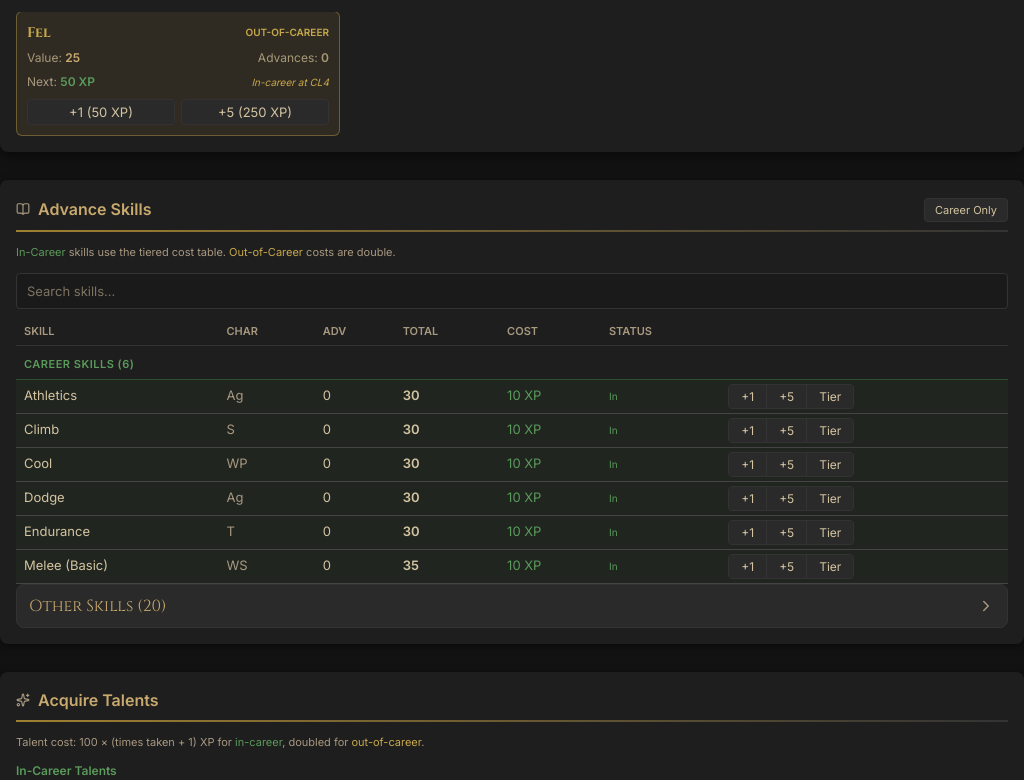
Test: AdvancementPage tooltip behavior › clicking a talent while a skill tooltip is open replaces it (Req 3.3)
// Open skill tooltip
Click the button "Athletics" at (51, 396), box [24, 386, 77, 406]
(page scrolled)
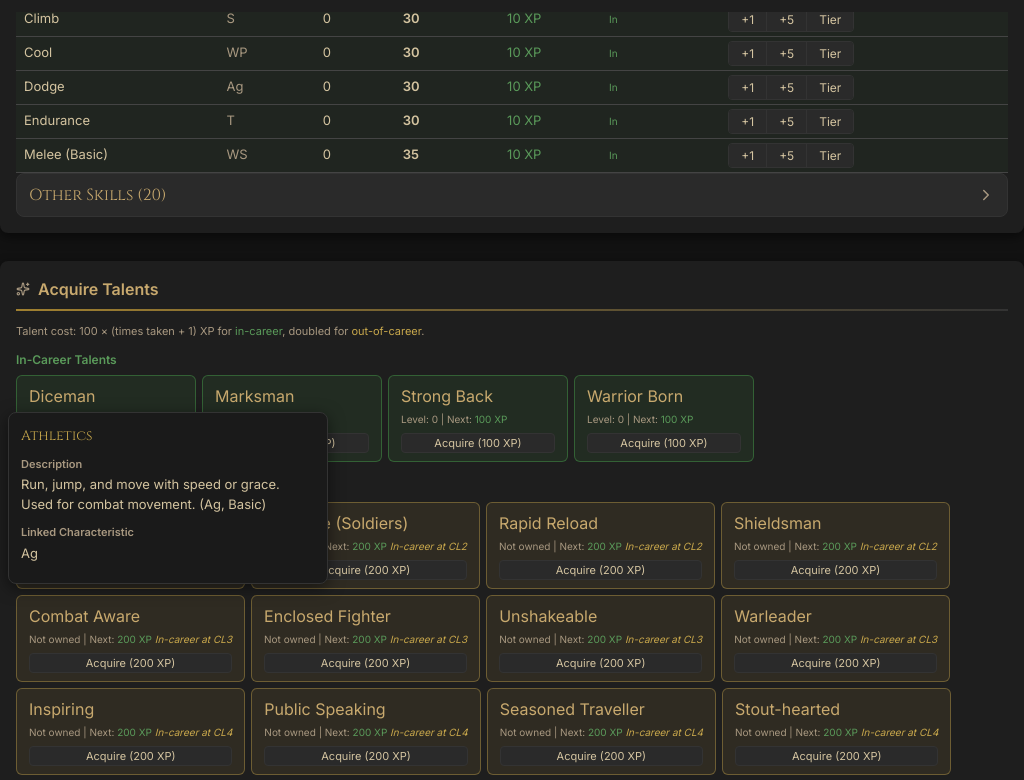
Result: the tooltip shows "Athletics" at [21, 426, 92, 445]
// Click a talent — should replace the skill tooltip
Click the button "Warrior Born" at (664, 396), box [587, 384, 741, 408]
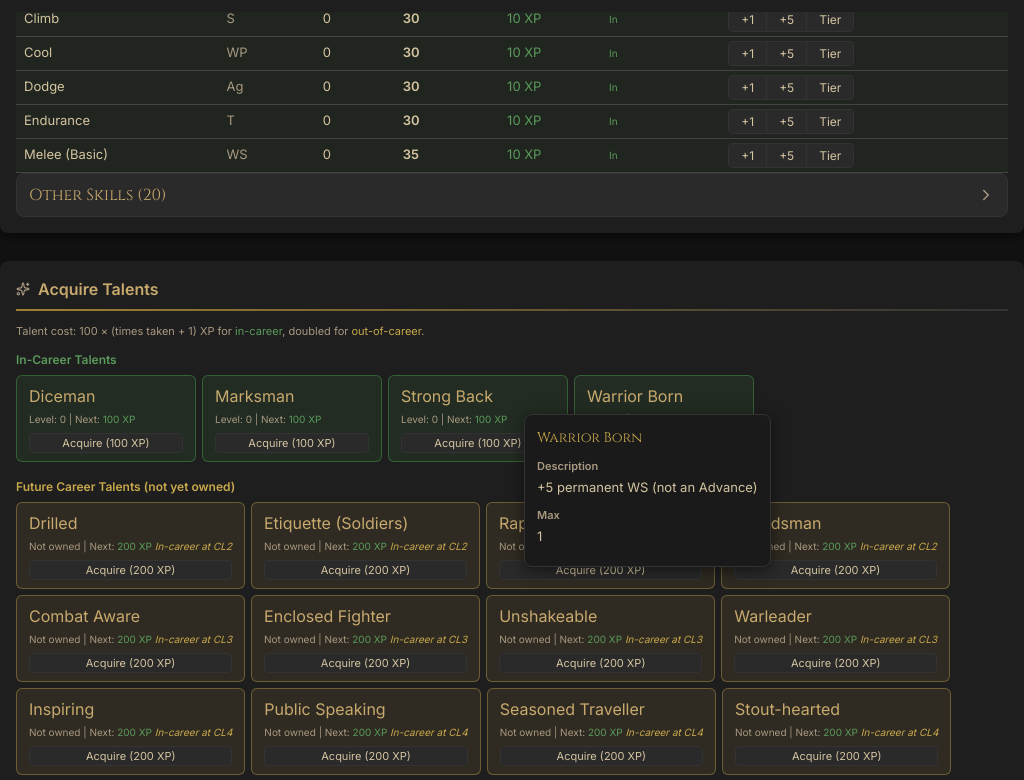
Expected: the tooltip does not show "Athletics", [524, 414, 770, 567]
Result: the tooltip shows "Warrior Born" at [537, 428, 642, 447]
Result: the number of tooltips is 1 at [524, 414, 770, 567]
